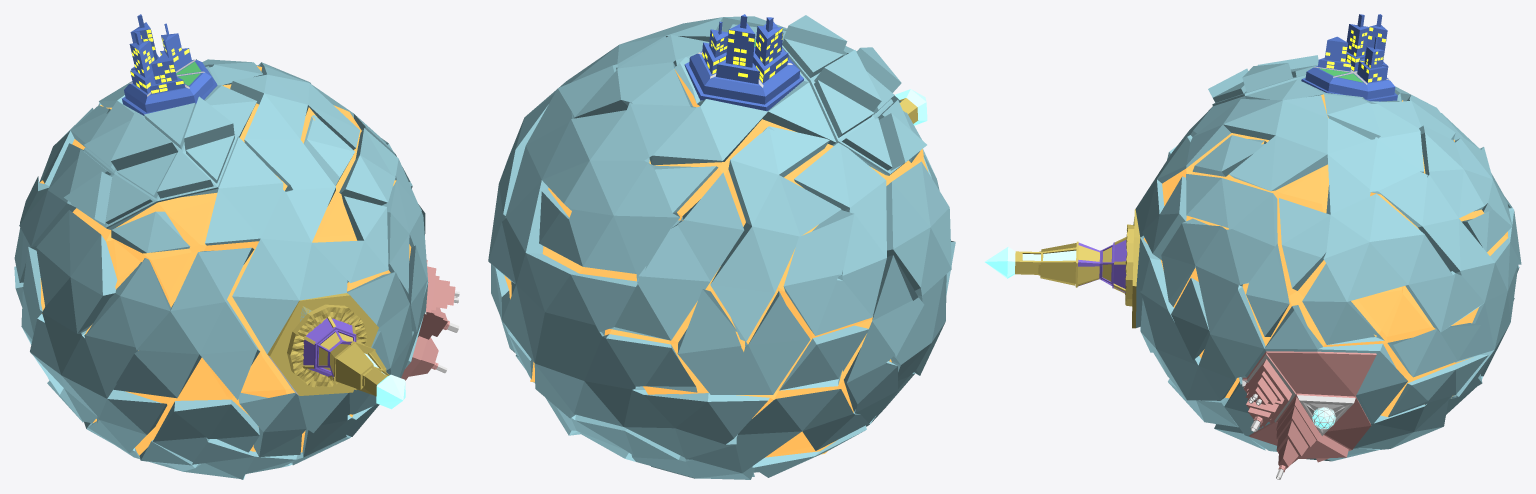
Rendered from ForCompaniiesSphere.glb.
3 views of the same model, side by side, from view 1: azimuth 30°, elevation 25°; view 2: azimuth 150°, elevation 25°; view 3: azimuth 270°, elevation 25° (orthographic). The views are drawn at different scales.
Parts seen in each view (by area): view 1: Icosphere.001, Icosphere.004, Icosphere.002, Icosphere.003, industyr, Icosphere.005; view 2: Icosphere.001, Icosphere.002, Icosphere.003; view 3: Icosphere.001, industyr, Icosphere.002, Icosphere.003, Icosphere.004, Icosphere.005.
Part boxes in pixels (box(x1,y1,x2,y2)): Icosphere.001: box(14, 59, 428, 479); Icosphere.004: box(267, 293, 378, 395); Icosphere.002: box(122, 14, 217, 115); Icosphere.003: box(330, 341, 405, 409); industyr: box(401, 260, 459, 380); Icosphere.005: box(314, 326, 356, 375); Icosphere.001: box(488, 15, 955, 479); Icosphere.002: box(684, 14, 803, 111); Icosphere.003: box(895, 89, 927, 125); Icosphere.001: box(1133, 55, 1521, 461); industyr: box(1242, 351, 1376, 479); Icosphere.002: box(1301, 14, 1397, 101); Icosphere.003: box(985, 241, 1099, 287); Icosphere.004: box(1113, 209, 1140, 328); Icosphere.005: box(1099, 242, 1114, 288).
Bounding box in the file's own units: 2.7 × 2.92 × 3.52.
